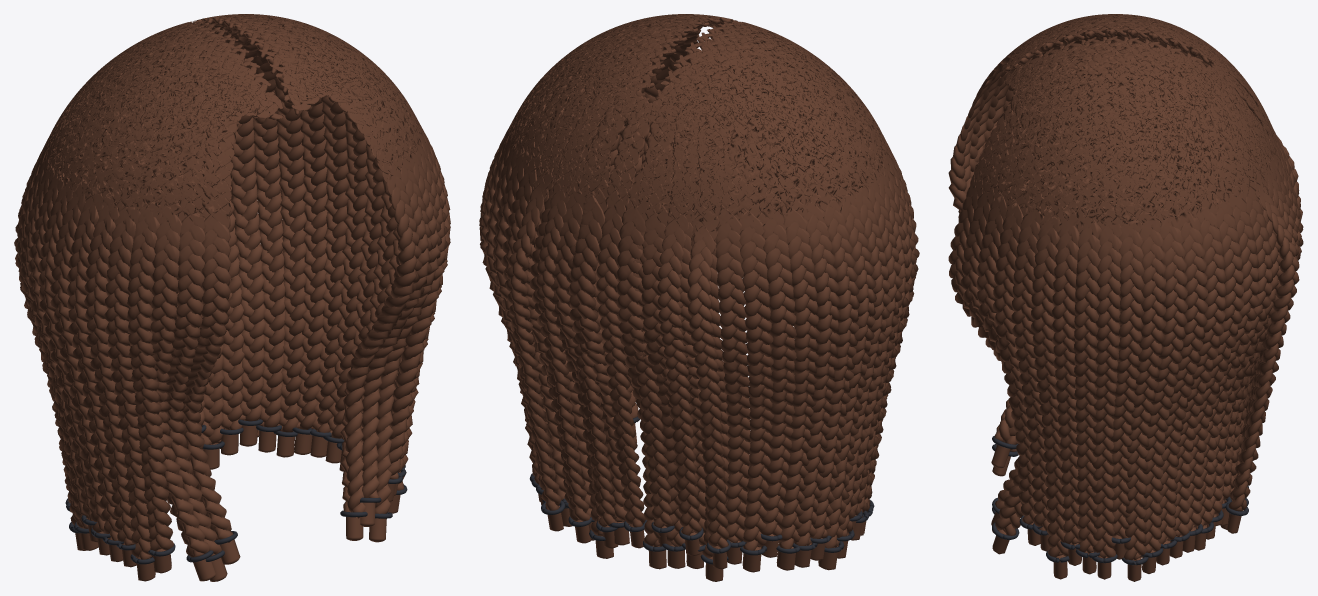
File: Feminine-box-braids-covered-hair.glb
3 views of the same model, side by side, from view 1: azimuth 30°, elevation 25°; view 2: azimuth 150°, elevation 25°; view 3: azimuth 270°, elevation 25° (orthographic). The views are drawn at different scales.
Visible parts, largest first — view 1: 226 hair / Hair / chestnut226, 226 hair / Hair / ties226; view 2: 226 hair / Hair / chestnut226, 226 hair / Hair / ties226; view 3: 226 hair / Hair / chestnut226, 226 hair / Hair / ties226.
Boxes of the visible parts, x1=… form: 226 hair / Hair / chestnut226: x1=14, y1=14, x2=450, y2=581; 226 hair / Hair / ties226: x1=65, y1=419, x2=407, y2=564; 226 hair / Hair / chestnut226: x1=479, y1=14, x2=919, y2=581; 226 hair / Hair / ties226: x1=529, y1=416, x2=874, y2=564; 226 hair / Hair / chestnut226: x1=948, y1=14, x2=1303, y2=581; 226 hair / Hair / ties226: x1=992, y1=436, x2=1248, y2=565.
Size of the model in its own units: 1.07 by 1.29 by 0.8581.
